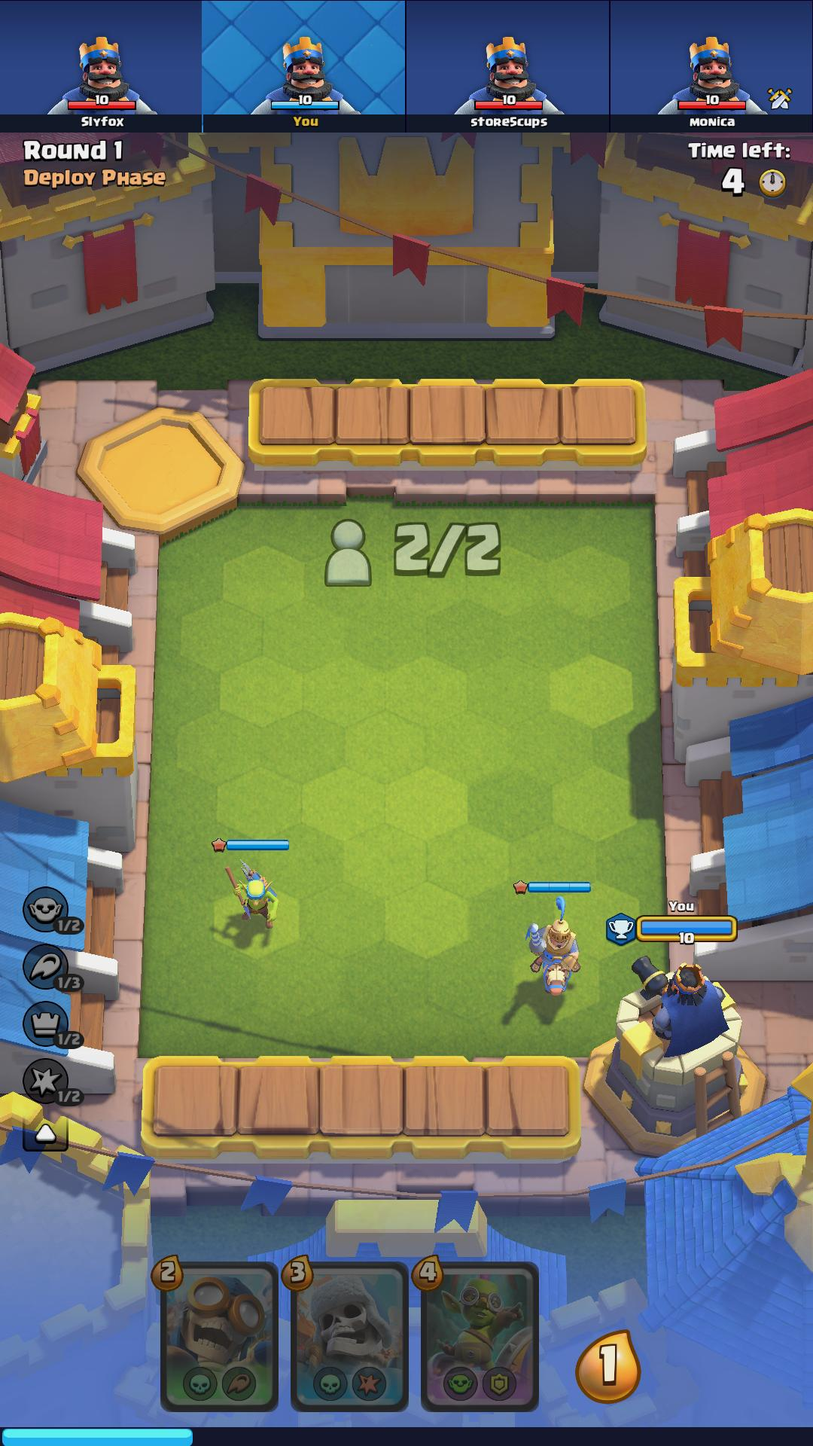hand-bomber: (161, 1260, 278, 1408)
hand-giant: (290, 1259, 409, 1410)
hand-machine: (421, 1260, 539, 1412)
prince: (523, 900, 587, 999)
spear: (217, 856, 286, 936)
